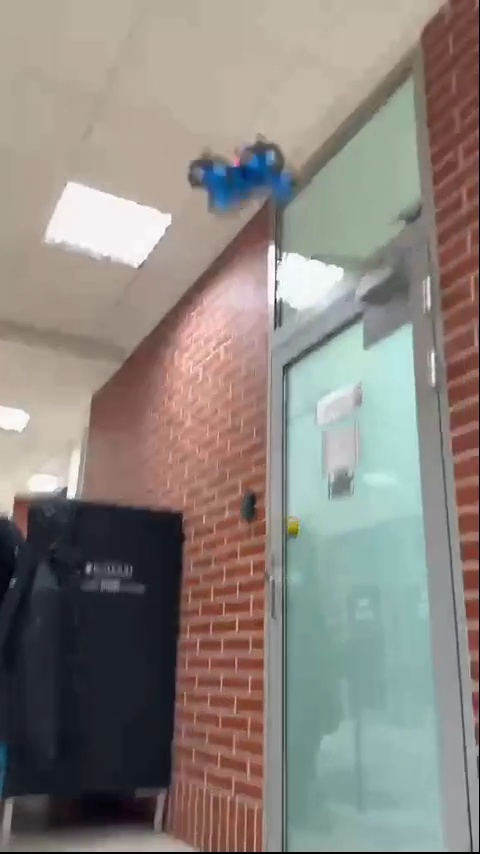drone: (192, 133, 288, 214)
